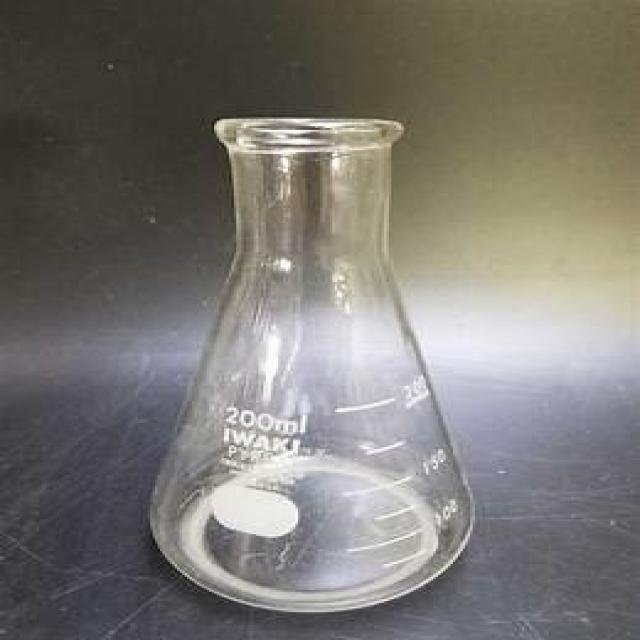Titrarion: (152, 96, 480, 612)
